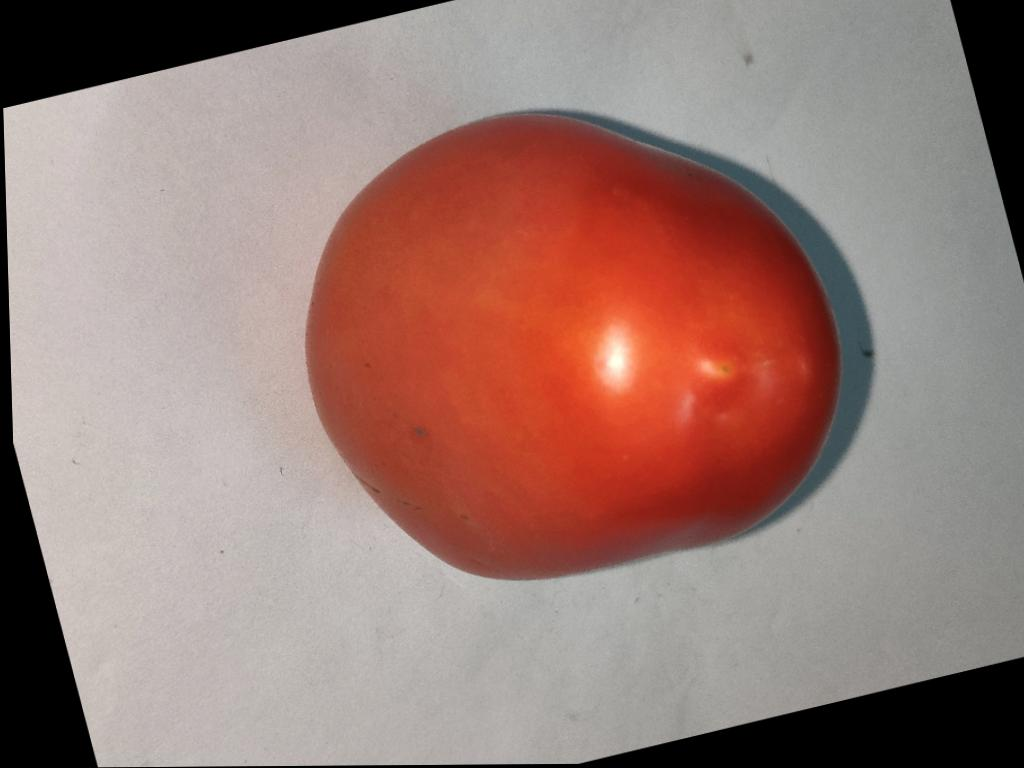tomato: (307, 116, 841, 579)
